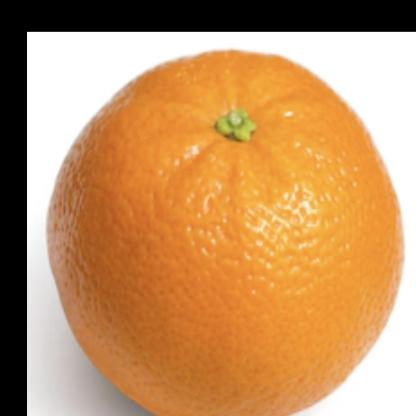rotten: (47, 50, 400, 416)
